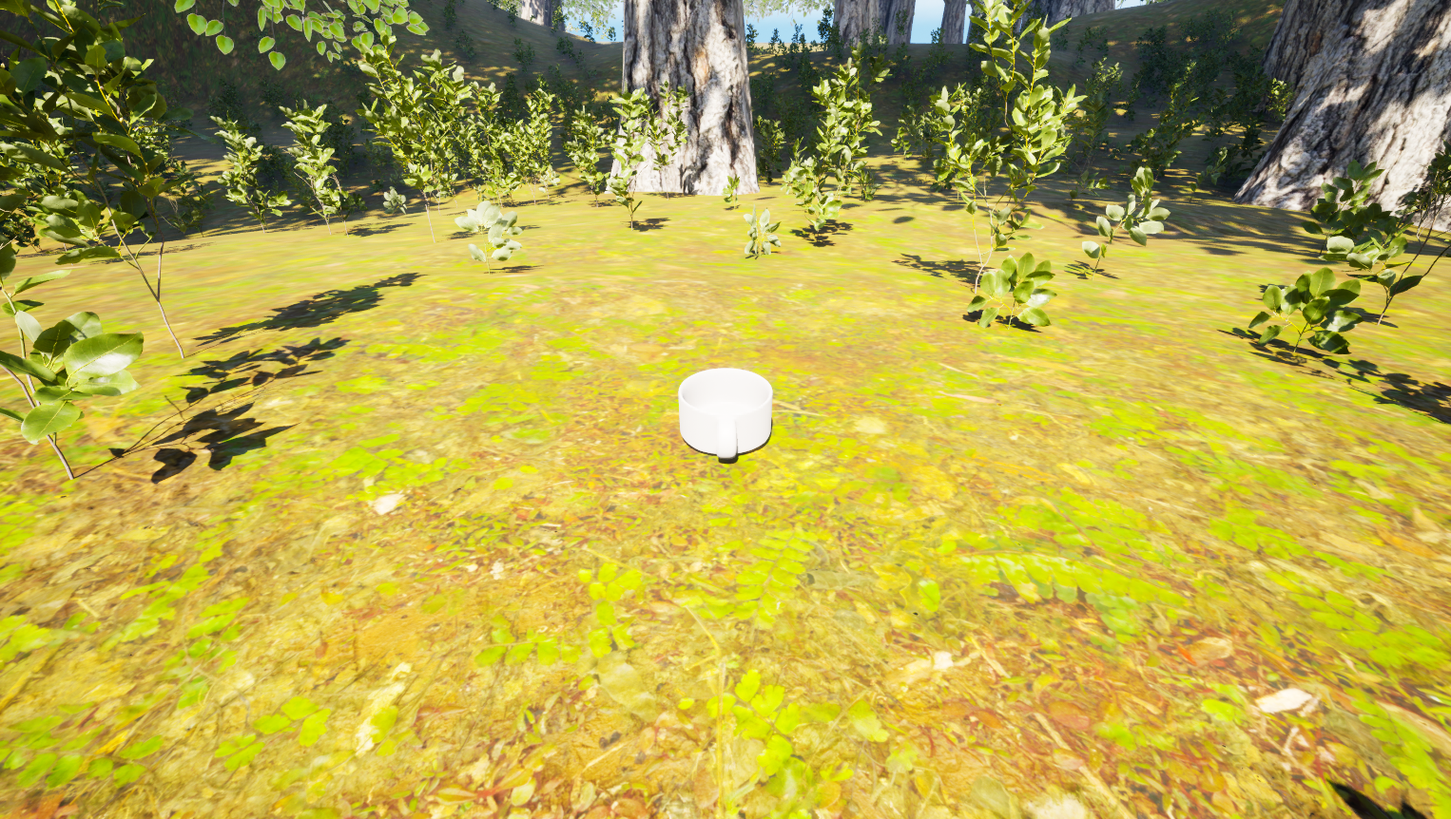Teacup: (650, 360, 789, 475)
